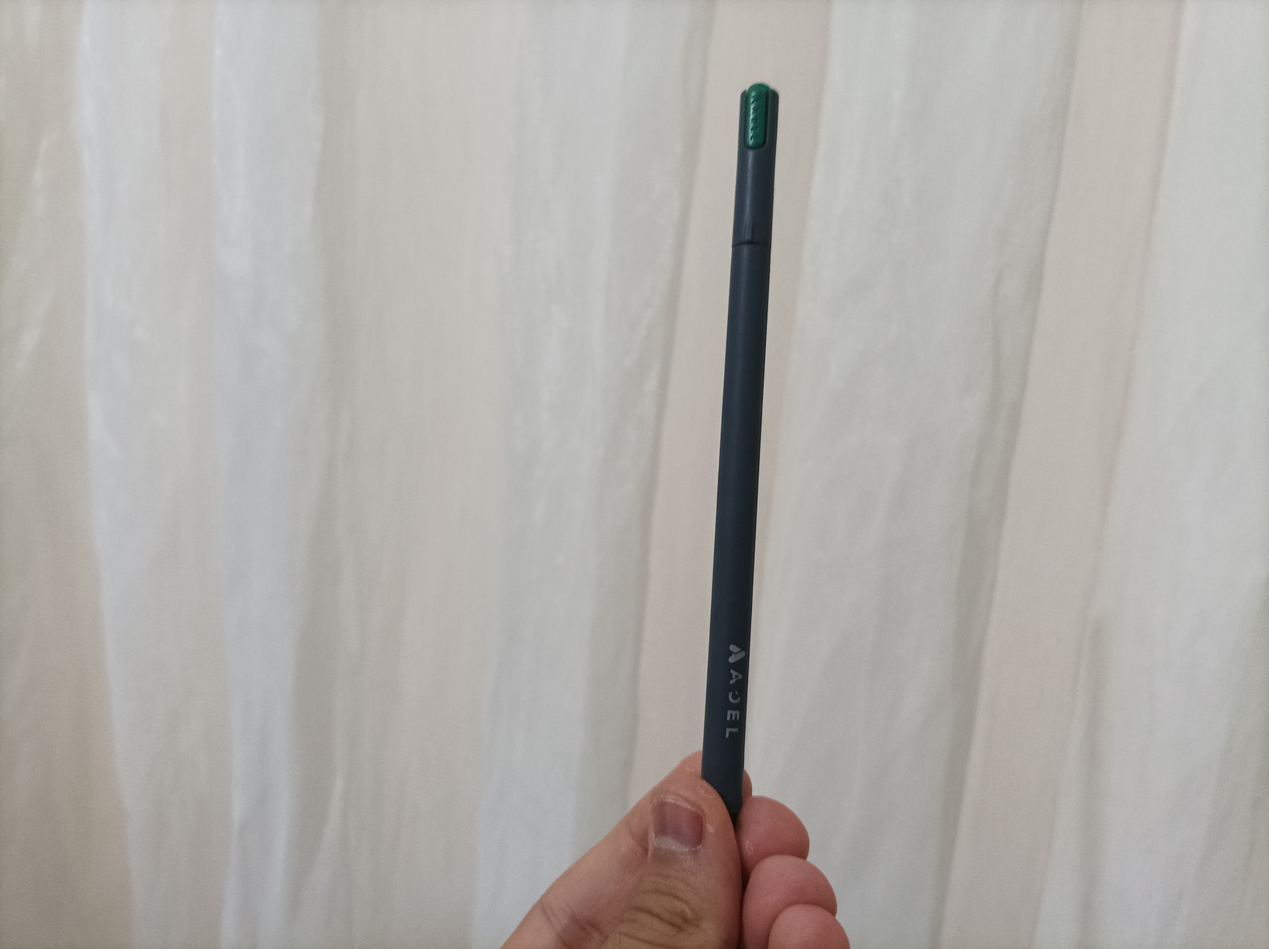plastic: (708, 79, 787, 821)
